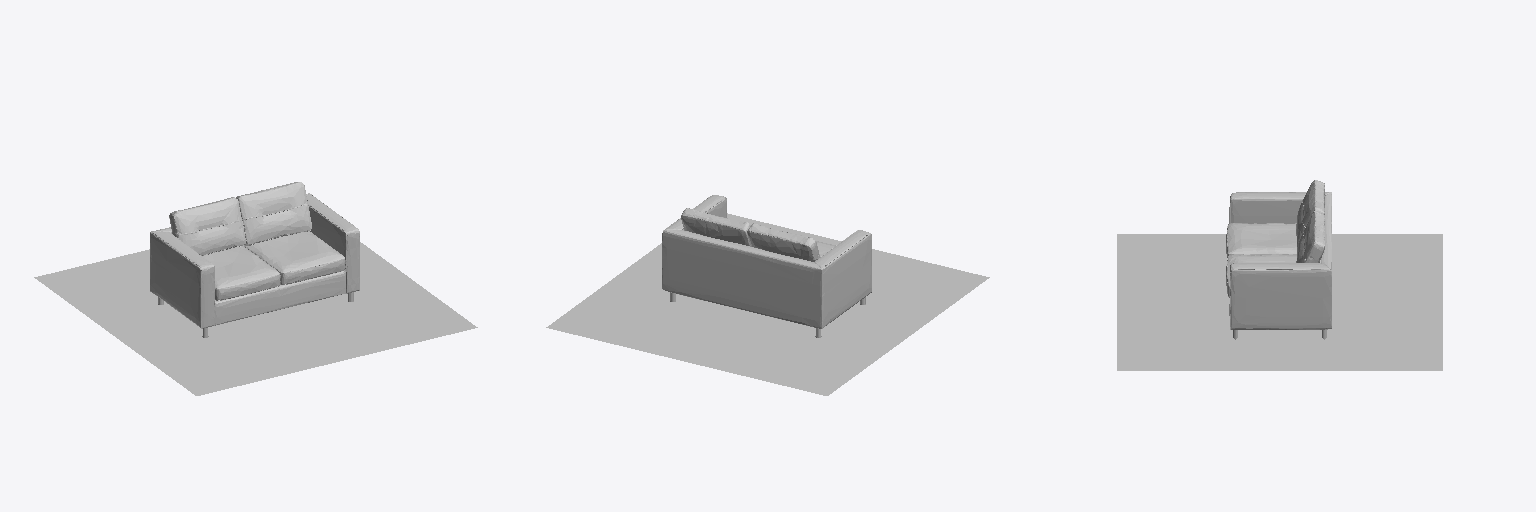
Rendered from WADL8173.obj.
3 renders of one model, left to right at view 1: azimuth 30°, elevation 25°; view 2: azimuth 150°, elevation 25°; view 3: azimuth 270°, elevation 25°, orthographic.
Parts seen in each view (by area): view 1: shadow_plane_v6, not_clear_obj_0_v6; view 2: shadow_plane_v6, not_clear_obj_0_v6; view 3: shadow_plane_v6, not_clear_obj_0_v6.
Part boxes in pixels (x1,y1,x2,y2): shadow_plane_v6: (34,242,477,395); not_clear_obj_0_v6: (150,182,359,328); shadow_plane_v6: (546,213,989,395); not_clear_obj_0_v6: (662,195,871,328); shadow_plane_v6: (1117,234,1442,370); not_clear_obj_0_v6: (1226,180,1331,329).
Size of the model in its own units: 247 by 78.19 by 247.